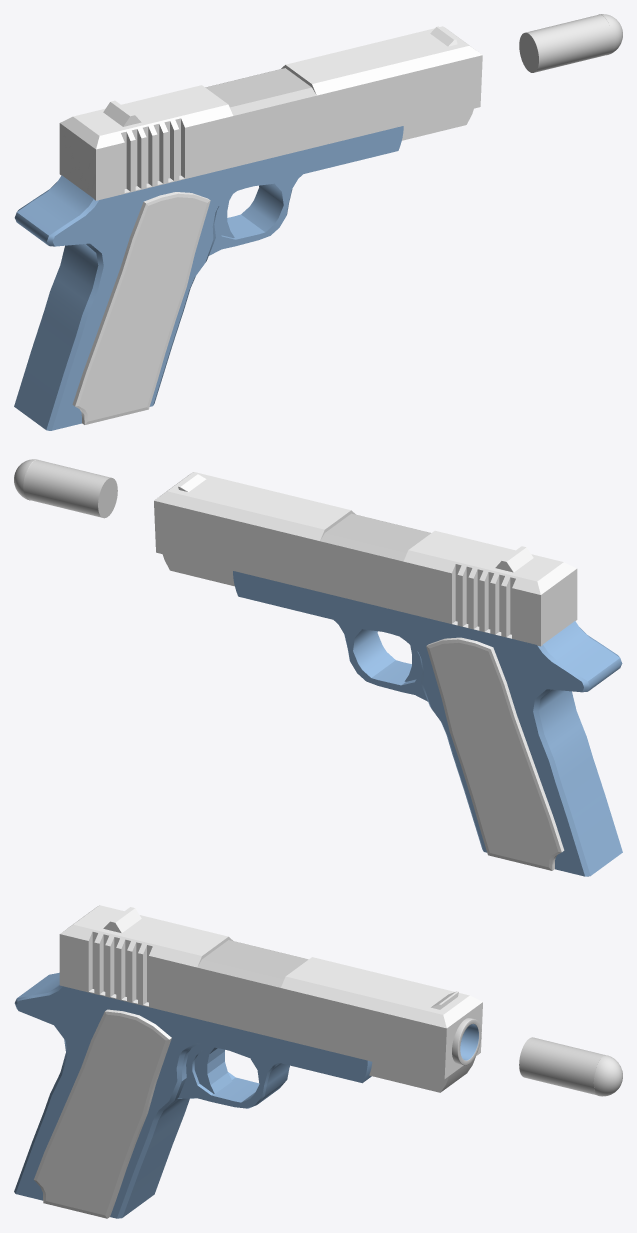
The model's file is Toy Gun.fbx.
3 views of the same model, one above another, from view 1: azimuth 30°, elevation 25°; view 2: azimuth 150°, elevation 25°; view 3: azimuth 330°, elevation 25° (orthographic).
Visible parts, largest first — view 1: Cube, Cube.001, Cube.003, Cylinder; view 2: Cube, Cube.001, Cube.003, Cylinder; view 3: Cube, Cube.001, Cube.003, Cylinder, Cube.002, 실린더, Sphere.
Boxes of the visible parts, x1,y1,x2,y2 form: Cube: [59, 26, 482, 200]; Cube.001: [14, 126, 403, 430]; Cube.003: [72, 192, 210, 424]; Cylinder: [519, 14, 613, 72]; Cube: [154, 472, 577, 646]; Cube.001: [233, 571, 622, 876]; Cube.003: [426, 637, 564, 870]; Cylinder: [23, 460, 117, 518]; Cube: [59, 905, 482, 1092]; Cube.001: [14, 972, 372, 1218]; Cube.003: [34, 1009, 171, 1218]; Cylinder: [519, 1037, 605, 1095]; Cube.002: [194, 1047, 232, 1093]; 실린더: [452, 1018, 481, 1065]; Sphere: [594, 1055, 622, 1096].
Size of the model in its own units: 1881 by 879 by 231.
